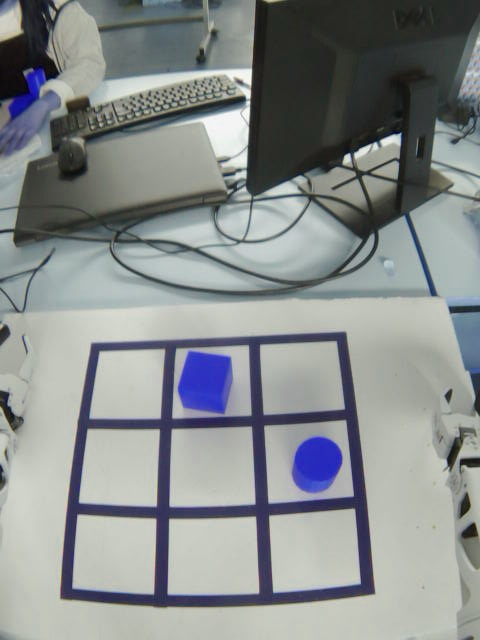cube: (174, 344, 241, 421)
cylinder: (286, 431, 348, 497)
empty: (159, 508, 272, 606), (260, 505, 373, 601), (162, 419, 263, 517), (67, 507, 166, 603), (73, 422, 168, 512), (255, 337, 352, 422), (83, 345, 171, 426)
